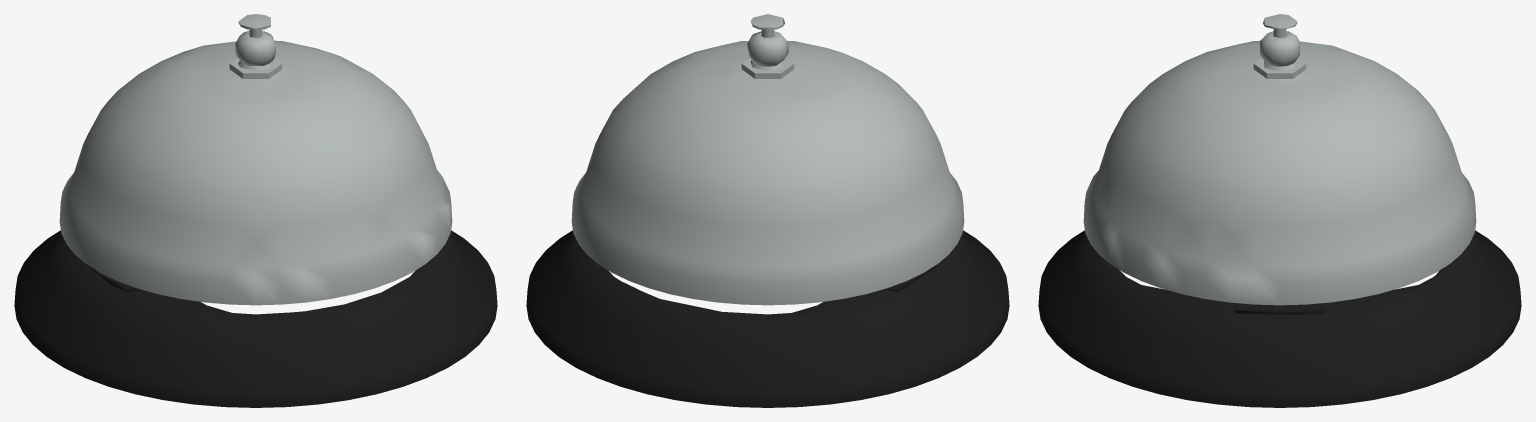
Rendered from desk-bell.gltf.
The picture shows the model from 3 angles, left to right: view 1: azimuth 30°, elevation 25°; view 2: azimuth 150°, elevation 25°; view 3: azimuth 270°, elevation 25°; orthographic projection.
Parts seen in each view (by area): view 1: Sketchfab_model; view 2: Sketchfab_model; view 3: Sketchfab_model.
Boxes of the visible parts, <box> form: Sketchfab_model: <box>14,14,497,407</box>; Sketchfab_model: <box>526,14,1009,407</box>; Sketchfab_model: <box>1038,14,1521,407</box>.
Bounding box in the file's own units: 0.1069 × 0.07 × 0.1069.
2 materials, 1 textured.
